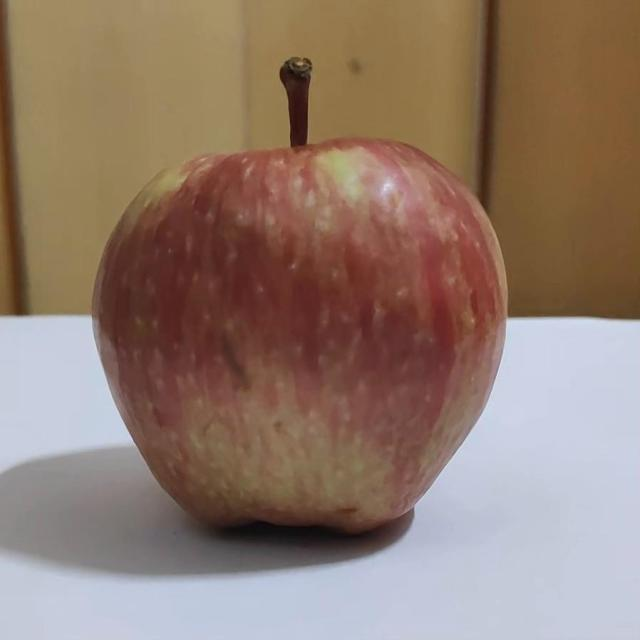Apple: (92, 58, 507, 532)
